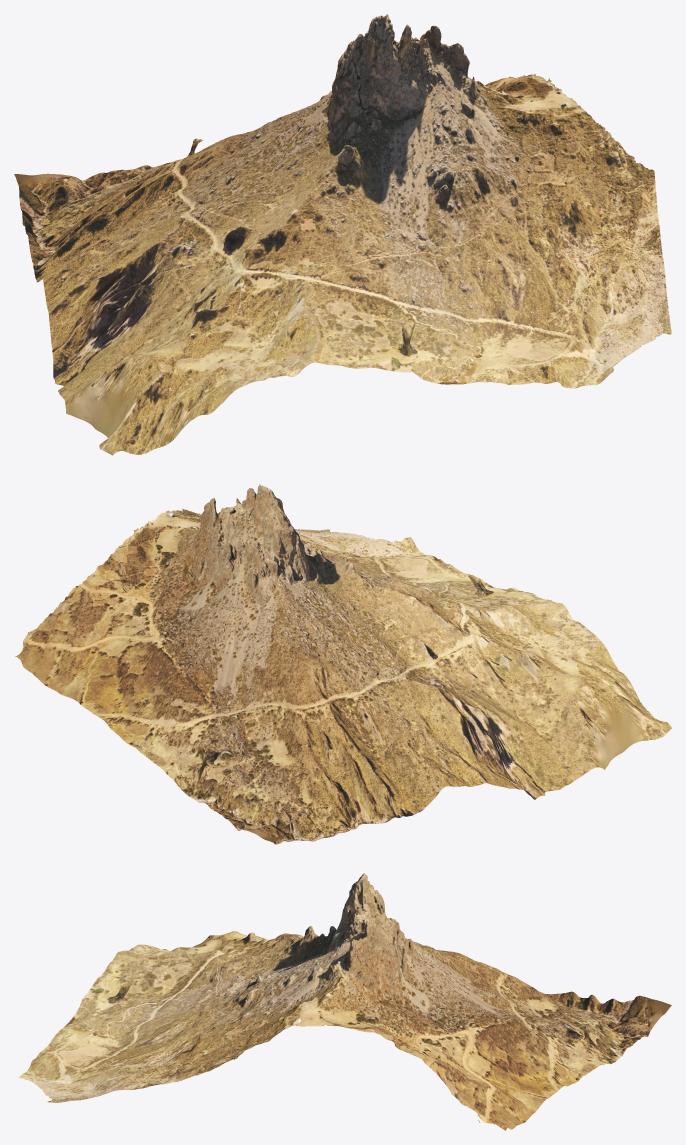
The model's file is MuelaDelDiablo_v1.glb.
3 renders of one model, top to bottom at view 1: azimuth 30°, elevation 25°; view 2: azimuth 150°, elevation 25°; view 3: azimuth 270°, elevation 25°, orthographic. The views are drawn at different scales.
Visible parts, largest first — view 1: Object_7, Object_4, Object_8, Object_5, Object_6, Object_9; view 2: Object_7, Object_5, Object_4, Object_6, Object_8, Object_9; view 3: Object_7, Object_5, Object_4, Object_6, Object_8, Object_9.
Part boxes in pixels (<box>): Object_7: <box>16,34,669,455</box>; Object_4: <box>14,28,671,420</box>; Object_8: <box>200,19,660,270</box>; Object_5: <box>174,41,575,252</box>; Object_6: <box>338,25,615,148</box>; Object_9: <box>237,14,422,192</box>; Object_7: <box>18,502,671,844</box>; Object_5: <box>15,503,443,754</box>; Object_4: <box>149,498,610,843</box>; Object_6: <box>109,491,295,795</box>; Object_8: <box>183,488,457,668</box>; Object_9: <box>213,484,371,671</box>; Object_7: <box>18,919,661,1127</box>; Object_5: <box>183,912,587,1130</box>; Object_4: <box>25,881,671,1102</box>; Object_6: <box>245,884,615,1073</box>; Object_8: <box>120,881,398,1087</box>; Object_9: <box>346,873,476,995</box>.
Bounding box in the file's own units: 668 × 311 × 747.
1 material, 1 textured.
